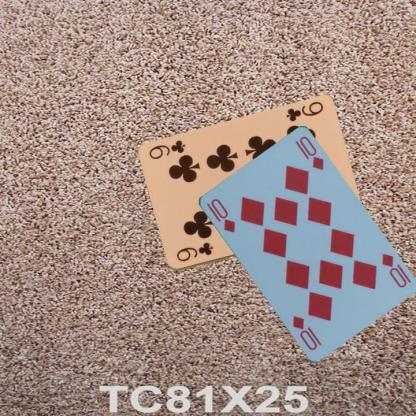10d: (204, 195, 236, 234), (378, 251, 408, 289)
9c: (283, 98, 325, 124), (173, 240, 214, 263)
